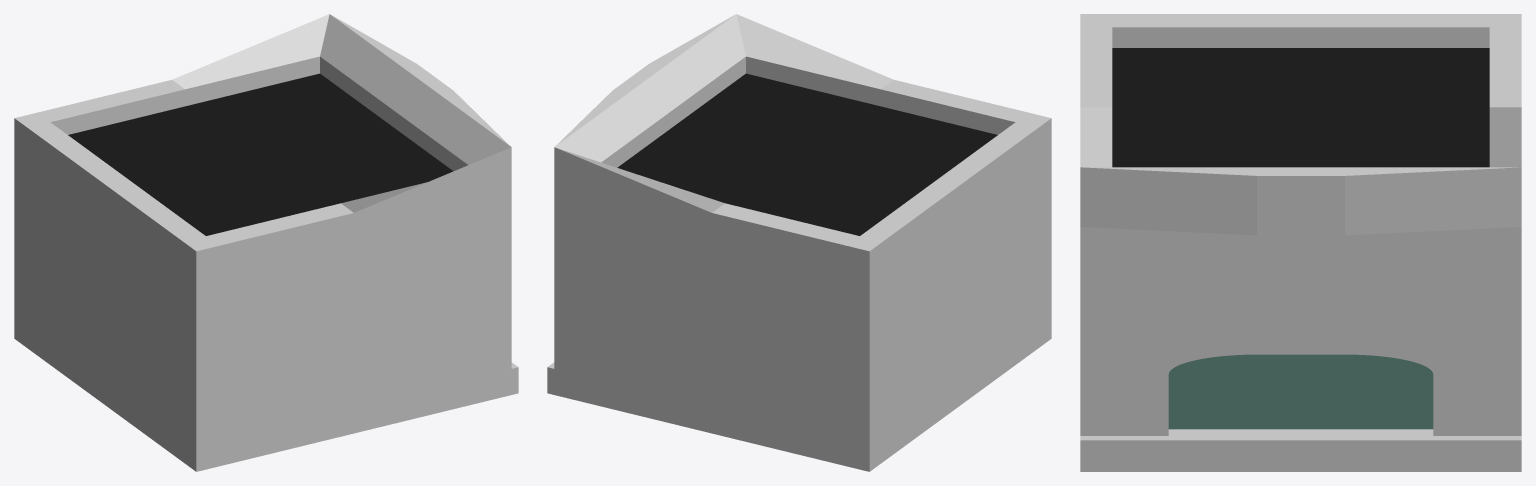
File: BasicBuilding.fbx
3 views of the same model, side by side, from view 1: azimuth 30°, elevation 25°; view 2: azimuth 150°, elevation 25°; view 3: azimuth 270°, elevation 25° (orthographic). The views are drawn at different scales.
Visible parts, largest first — view 1: Cube.001; view 2: Cube.001; view 3: Cube.001.
Boxes of the visible parts, x1,y1,x2,y2 form: Cube.001: (14, 14, 518, 471); Cube.001: (547, 14, 1051, 471); Cube.001: (1080, 14, 1521, 471).
Bounding box in the file's own units: 16.96 × 12.19 × 16.22.
